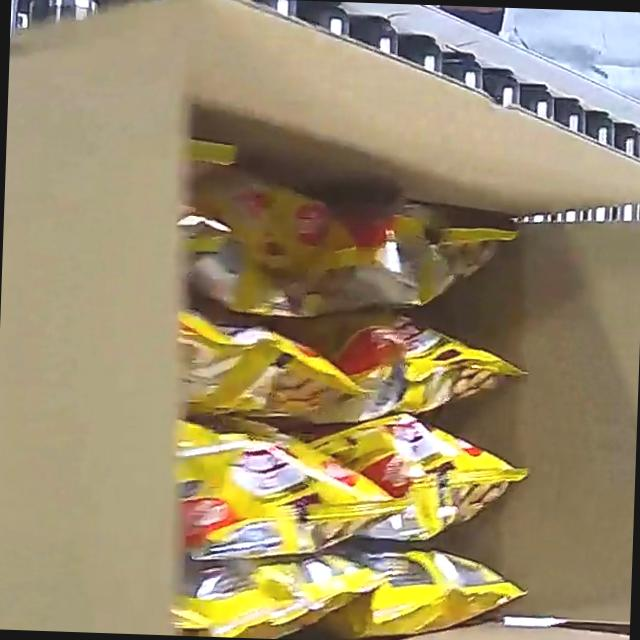salted: (122, 146, 559, 640)
